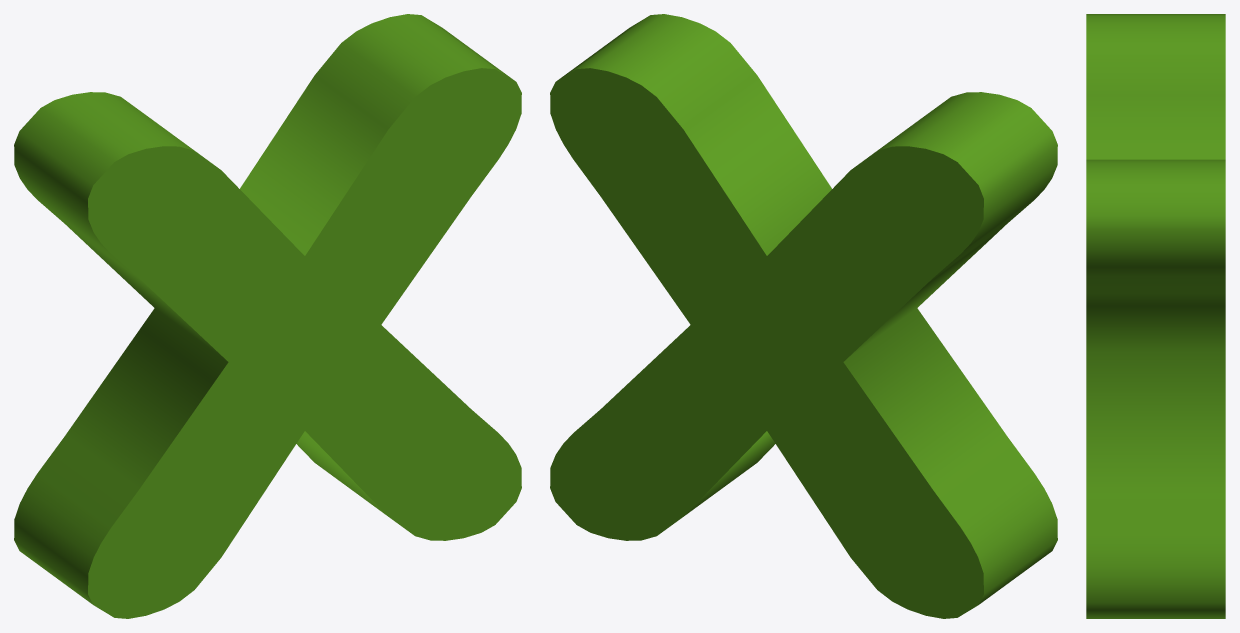
File: textx.fbx
3 views of the same model, side by side, from view 1: azimuth 30°, elevation 25°; view 2: azimuth 150°, elevation 25°; view 3: azimuth 270°, elevation 25° (orthographic). The views are drawn at different scales.
Parts seen in each view (by area): view 1: Text_X; view 2: Text_X; view 3: Text_X.
Part boxes in pixels (x1,y1,x2,y2): Text_X: [14, 14, 521, 618]; Text_X: [550, 14, 1057, 618]; Text_X: [1086, 14, 1225, 618].
Size of the model in its own units: 82.67 by 85.04 by 24.39.
